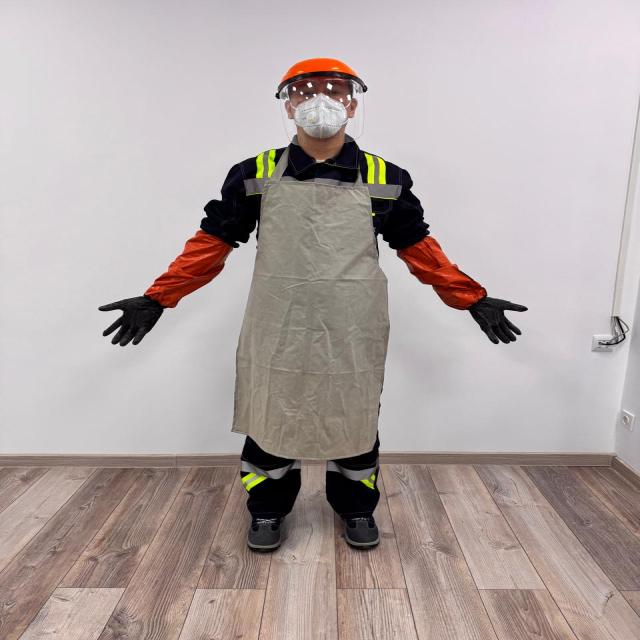Gloves: (97, 295, 164, 347), (466, 296, 528, 344)
Helmet: (275, 57, 367, 99)
Mask: (290, 93, 349, 139)
Protective apron: (229, 145, 398, 461)
Safety Shoes: (245, 514, 285, 552)
Sleeve: (142, 228, 232, 308), (396, 235, 488, 311)
